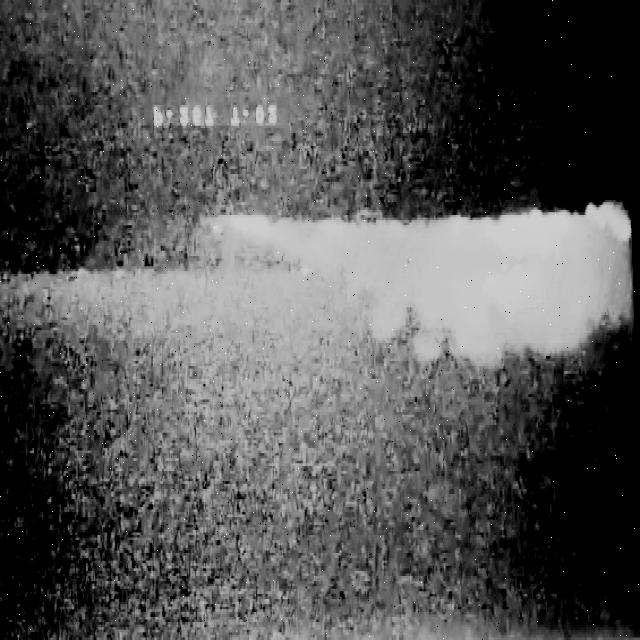asap: (210, 201, 632, 406)
